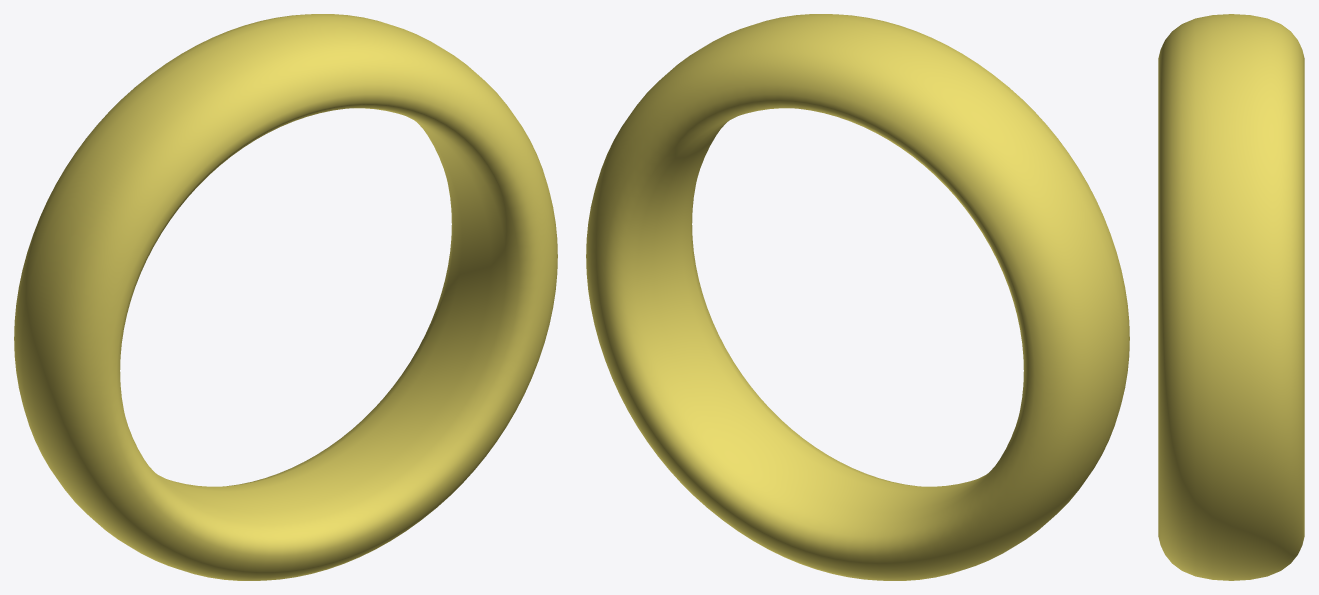
Rendered from tradring.glb.
3 renders of one model, left to right at view 1: azimuth 30°, elevation 25°; view 2: azimuth 150°, elevation 25°; view 3: azimuth 270°, elevation 25°, orthographic. The views are drawn at different scales.
Parts seen in each view (by area): view 1: Circle; view 2: Circle; view 3: Circle.
Boxes of the visible parts, box(x1,y1,x2,y2) form: Circle: box(14, 14, 557, 580); Circle: box(586, 14, 1129, 580); Circle: box(1158, 14, 1304, 580).
Size of the model in its own units: 1.97 by 1.97 by 0.5075.
